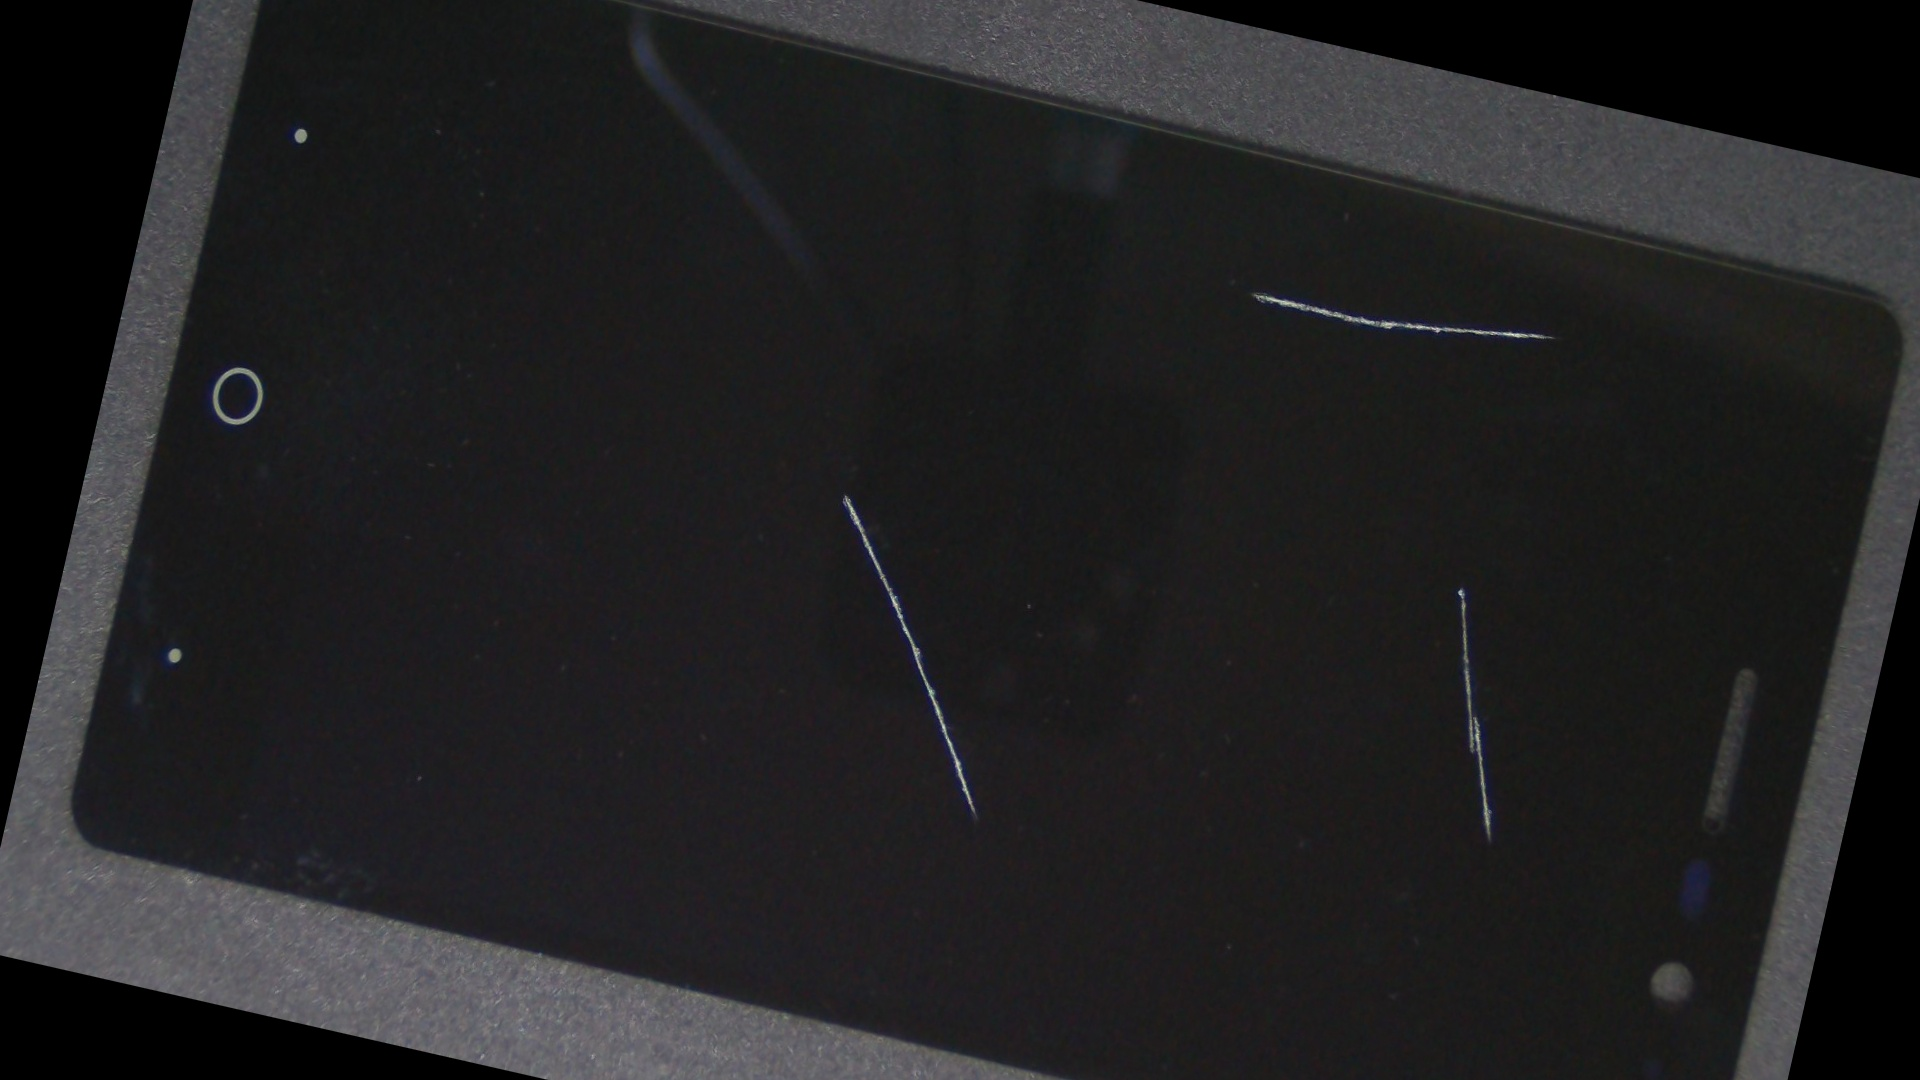oil: (741, 190, 1920, 926), (422, 144, 1269, 843), (843, 65, 1920, 538)
